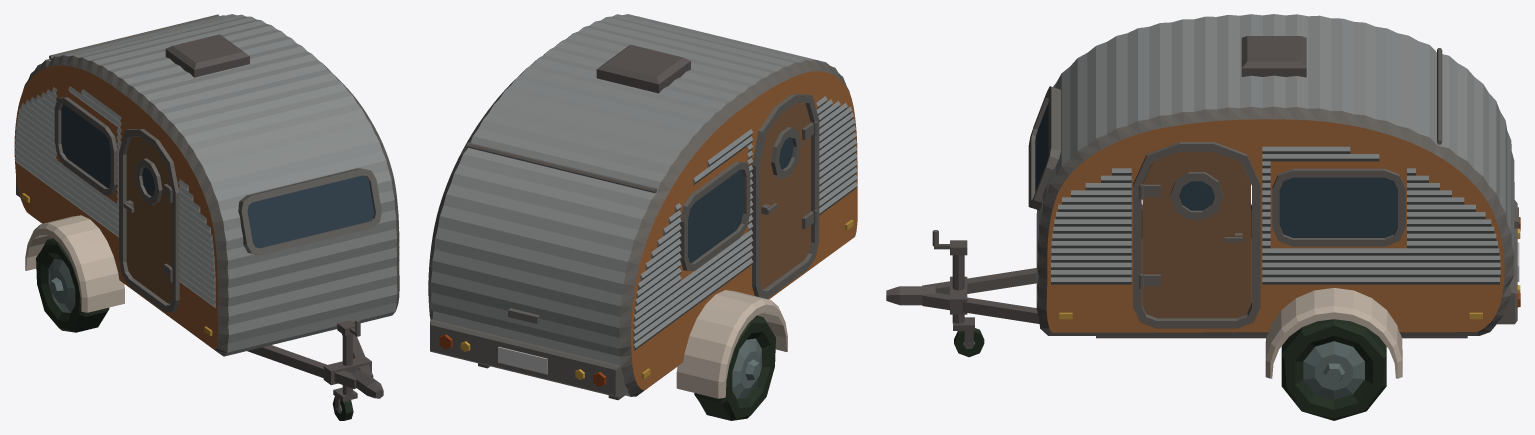
File: teardrop-trailer-580e25.glb
The picture shows the model from 3 angles, left to right: view 1: azimuth 30°, elevation 25°; view 2: azimuth 150°, elevation 25°; view 3: azimuth 270°, elevation 25°; orthographic projection. The views are drawn at different scales.
Visible parts, largest first — view 1: body, door-r, wheel-r; view 2: body, door-r, wheel-r; view 3: body, door-l, wheel-l.
Part boxes in pixels (x1,y1,x2,y2): body: (14, 14, 399, 398); door-r: (123, 136, 171, 303); wheel-r: (36, 238, 109, 332); body: (428, 14, 857, 400); door-r: (760, 103, 813, 289); wheel-r: (694, 315, 775, 420); body: (886, 14, 1520, 378); door-l: (1142, 151, 1250, 318); wheel-l: (1281, 319, 1386, 420).
Size of the model in its own units: 1.75 by 1.78 by 3.33.
